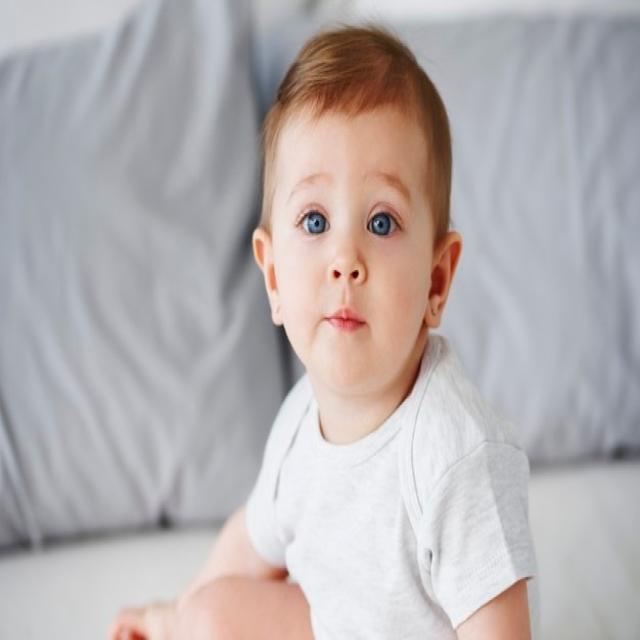non-dog: (107, 25, 537, 640)
